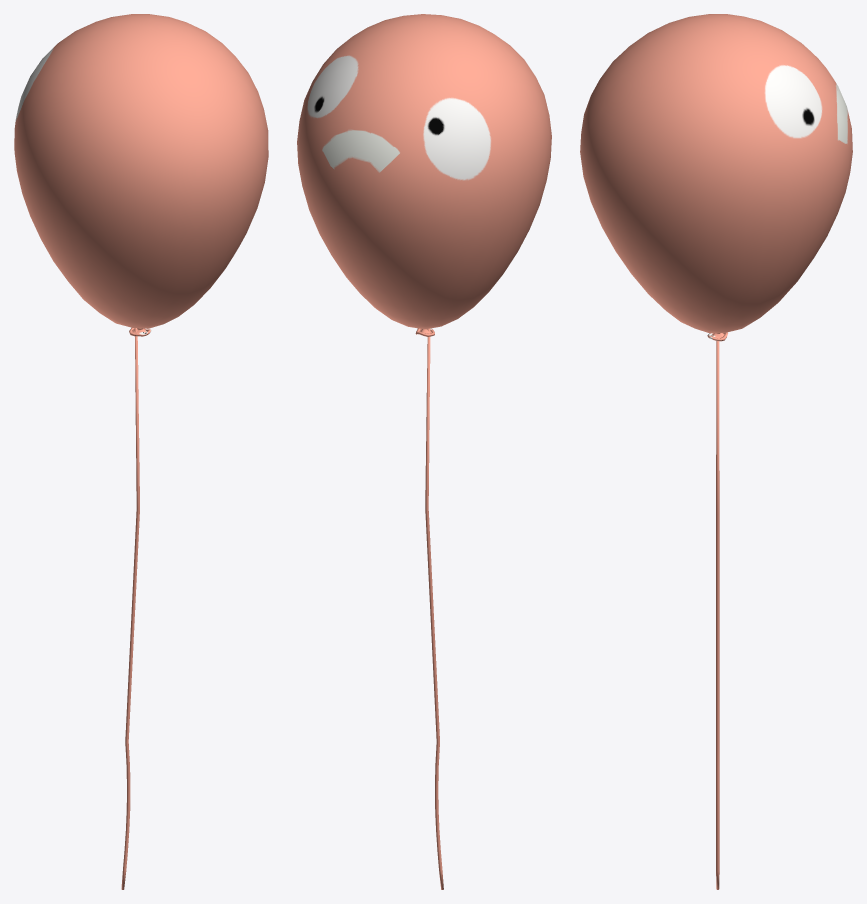
Rendered from balloon.obj.
3 renders of one model, left to right at view 1: azimuth 30°, elevation 25°; view 2: azimuth 150°, elevation 25°; view 3: azimuth 270°, elevation 25°, orthographic.
Visible parts, largest first — view 1: Line01; view 2: Line01; view 3: Line01.
Boxes of the visible parts, bbox=[...] form: Line01: bbox=[14, 14, 268, 889]; Line01: bbox=[297, 14, 551, 889]; Line01: bbox=[580, 14, 852, 889].
Bounding box in the file's own units: 98.45 × 372 × 105.
1 material, 1 textured.
